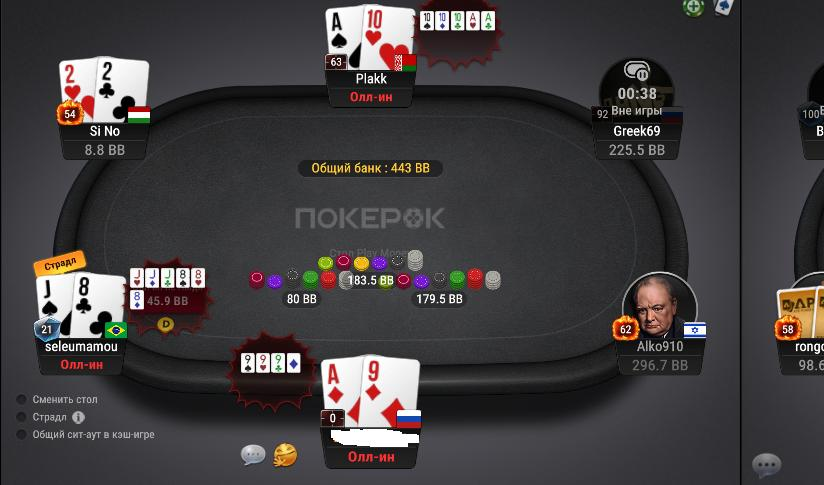10h: (363, 4, 416, 71)
2c: (96, 57, 149, 122)
2h: (59, 58, 97, 123)
8c: (72, 273, 125, 340)
9d: (362, 355, 421, 430)
Ad: (322, 357, 363, 427)
As: (327, 9, 362, 69)
Js: (37, 277, 74, 339)
